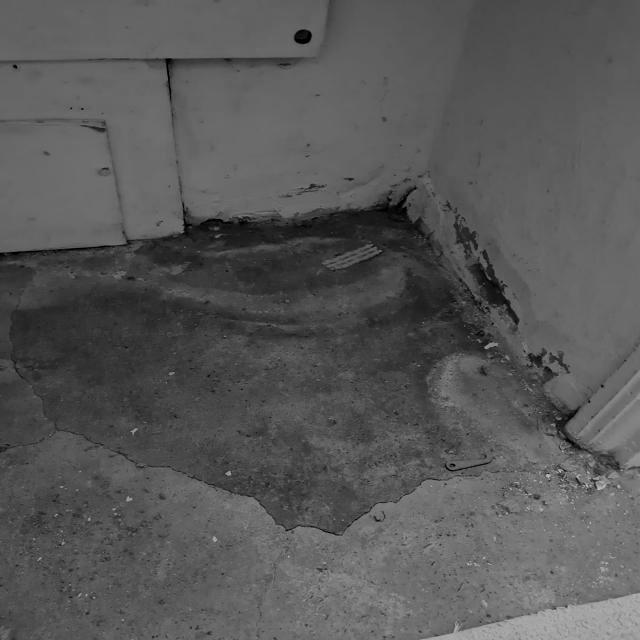stain marks: (179, 138, 425, 244), (414, 143, 534, 350), (525, 292, 600, 428)
